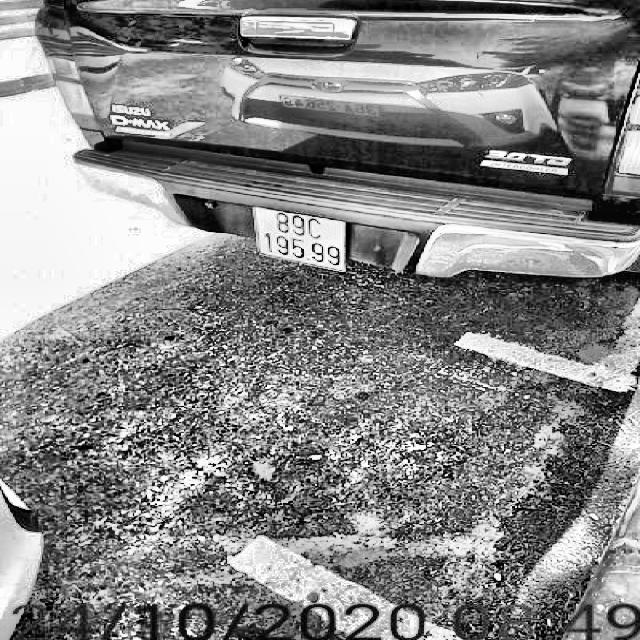plate: (238, 204, 354, 276)
